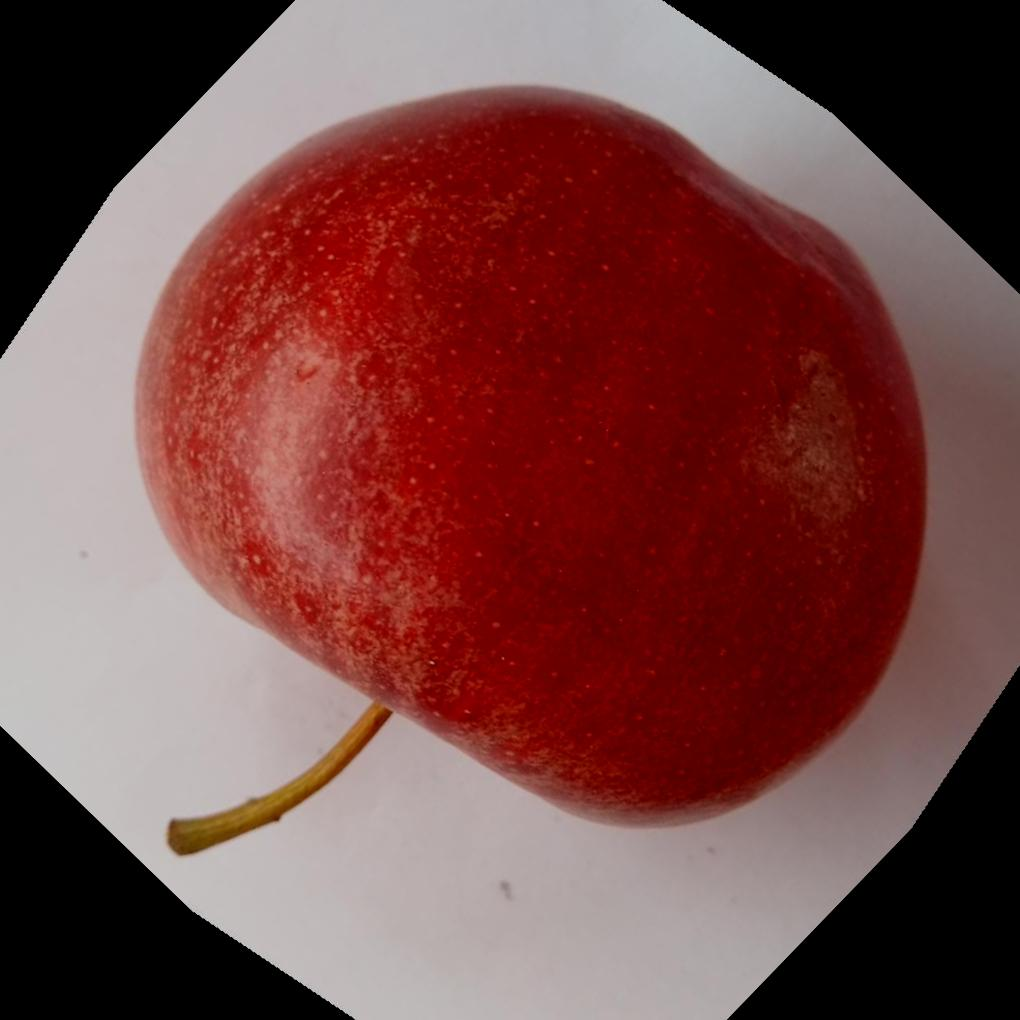FreshGuava: (133, 82, 933, 830)
